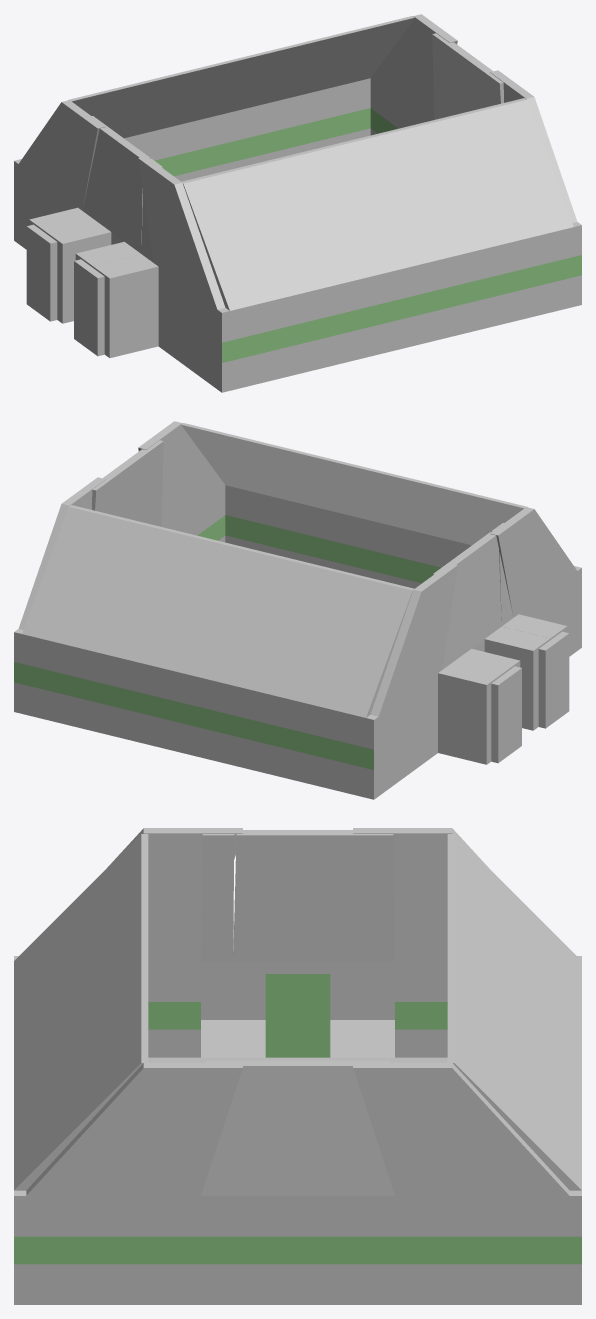
File: warsztat.fbx
The picture shows the model from 3 angles, top to bottom: view 1: azimuth 30°, elevation 25°; view 2: azimuth 150°, elevation 25°; view 3: azimuth 270°, elevation 25°; orthographic projection. The views are drawn at different scales.
Visible parts, largest first — view 1: Cube; view 2: Cube; view 3: Cube.
Part boxes in pixels (left/top/right/bottom): Cube: left=14, top=14, right=581, bottom=392; Cube: left=14, top=421, right=581, bottom=799; Cube: left=14, top=828, right=581, bottom=1304.
Size of the model in its own units: 1883 by 751 by 1631.
